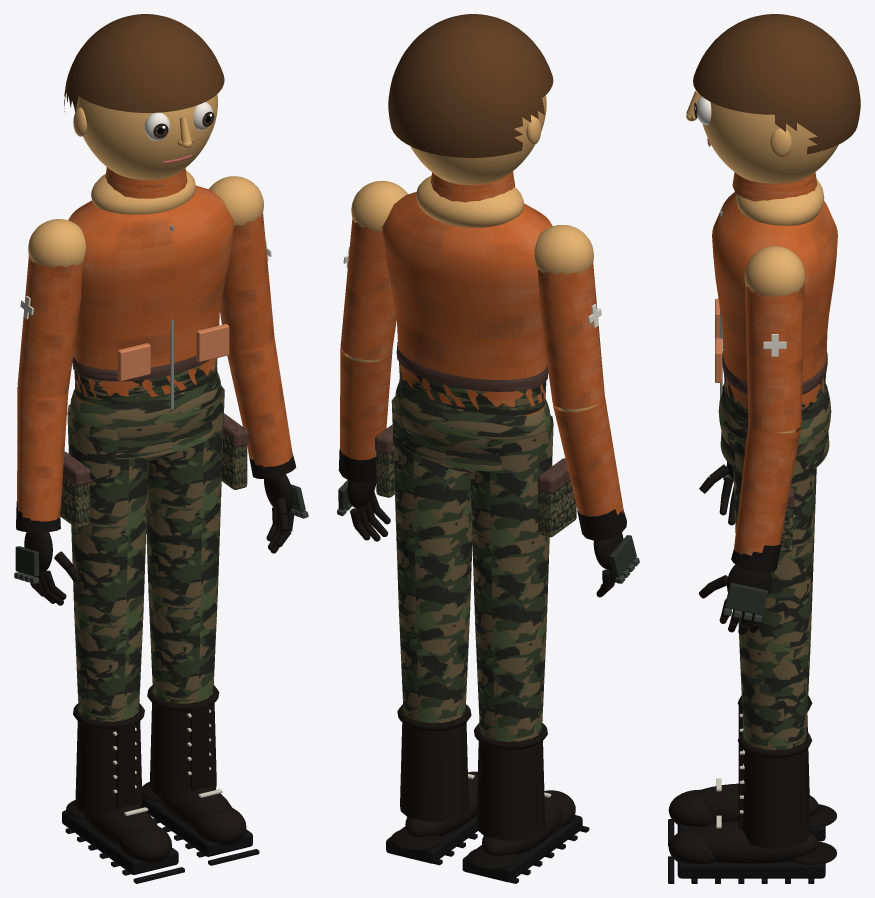
The model's file is 02-brassard-rouge.glb.
3 views of the same model, side by side, from view 1: azimuth 30°, elevation 25°; view 2: azimuth 150°, elevation 25°; view 3: azimuth 270°, elevation 25° (orthographic). The views are drawn at different scales.
Size of the model in its own units: 0.6344 by 1.77 by 0.3715.
27 materials, 4 textured.
